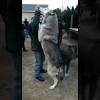Lobo: (37, 7, 72, 83)
